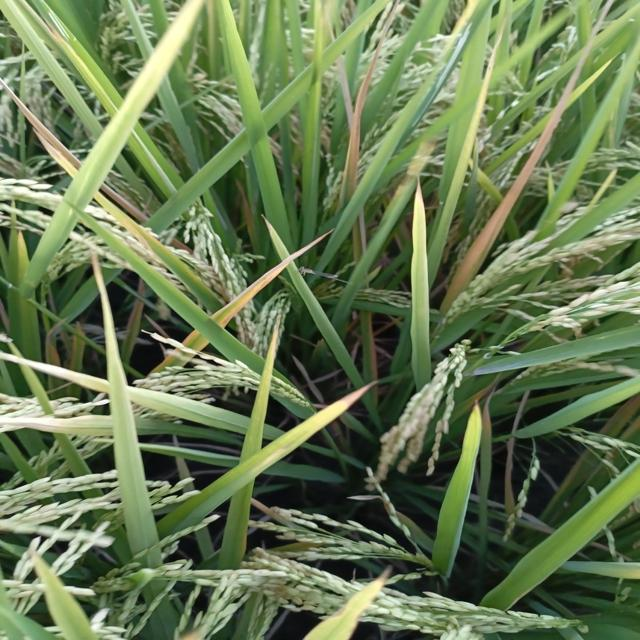Brown spot: (444, 113, 558, 284), (0, 82, 88, 180), (343, 44, 391, 185), (244, 222, 342, 286), (500, 441, 525, 522), (470, 389, 504, 434)
